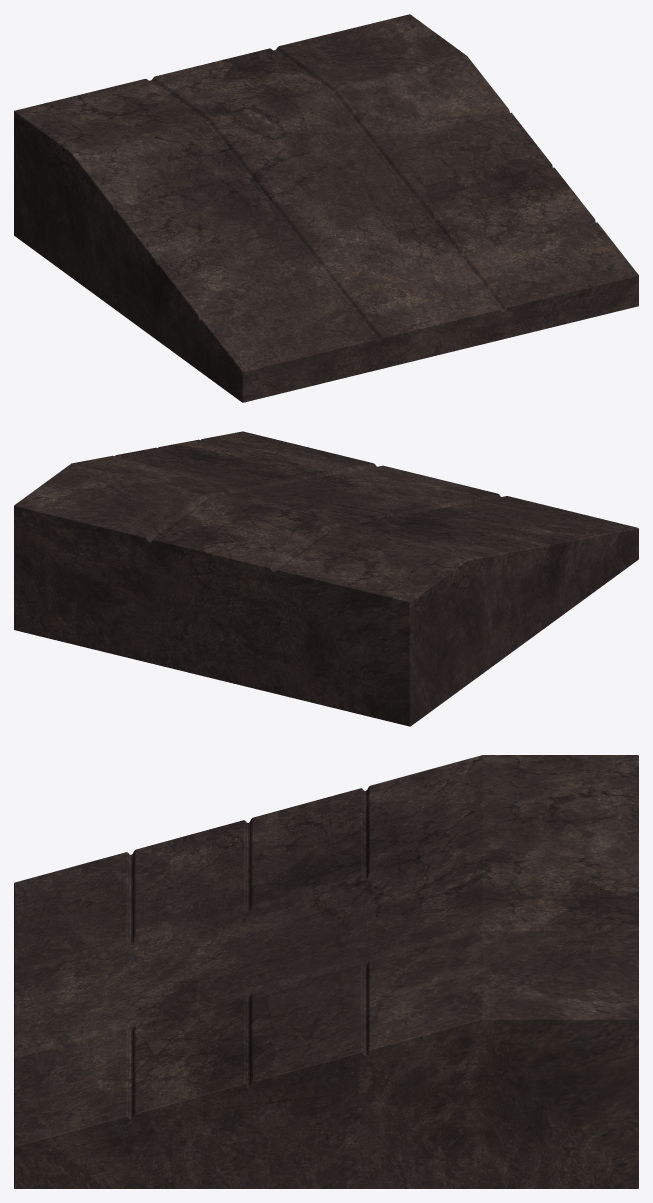
Rendered from SK1 RAMP.fbx.
3 views of the same model, one above another, from view 1: azimuth 30°, elevation 25°; view 2: azimuth 150°, elevation 25°; view 3: azimuth 270°, elevation 25° (orthographic). The views are drawn at different scales.
Visible parts, largest first — view 1: SK1 RAMP.001; view 2: SK1 RAMP.001; view 3: SK1 RAMP.001.
Boxes of the visible parts, x1,y1,x2,y2 form: SK1 RAMP.001: (14, 14, 638, 402); SK1 RAMP.001: (14, 431, 638, 726); SK1 RAMP.001: (14, 755, 638, 1188).
Bounding box in the file's own units: 400 × 120 × 400.
